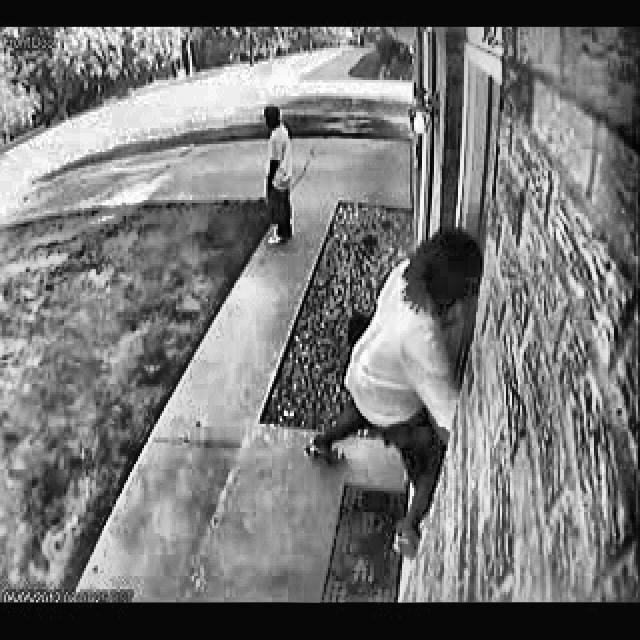burglary: (300, 214, 496, 564), (258, 93, 298, 250)
